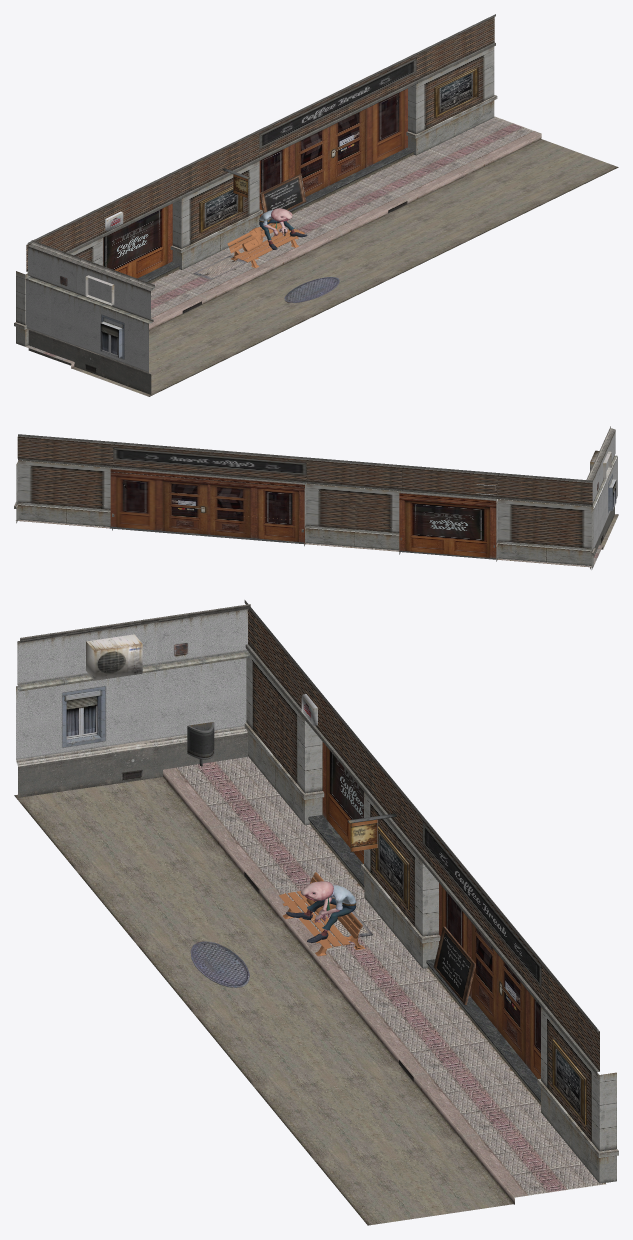
Rendered from old man on bench 103.fbx.
3 views of the same model, one above another, from view 1: azimuth 30°, elevation 25°; view 2: azimuth 150°, elevation 25°; view 3: azimuth 270°, elevation 25° (orthographic). The views are drawn at different scales.
Visible parts, largest first — view 1: node_id4, node_id103, node_id114; view 2: node_id4; view 3: node_id4, node_id103, node_id114.
Part boxes in pixels (x1,y1,x2,y2): node_id4: [14, 14, 618, 396]; node_id103: [227, 221, 304, 268]; node_id114: [259, 208, 307, 249]; node_id4: [14, 426, 618, 569]; node_id4: [14, 600, 618, 1225]; node_id103: [279, 872, 364, 956]; node_id114: [286, 881, 356, 942].
Bounding box in the file's own units: 1255 × 207 × 685.
4 materials, 4 textured.
